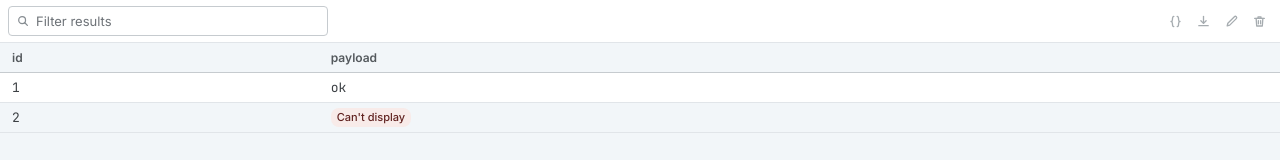
Test: QueryResultsPane › filters unreadable rows by the visible Can't display badge text
The width and height of the screenshot is (1280, 160).
Expected: the picture "Can't display" is shown, [331,108,411,127]
Expected: the text "ok" is shown, [319,73,1279,103]
Type "can't display" into the search field at (168, 21), box [8,6,328,36]
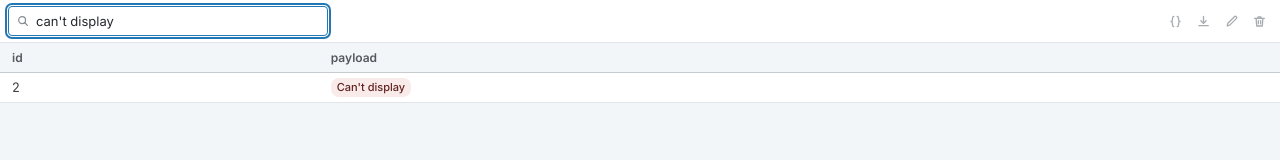
Expected: the picture "Can't display" is shown, [331,78,411,97]
Result: the text "ok" is gone
